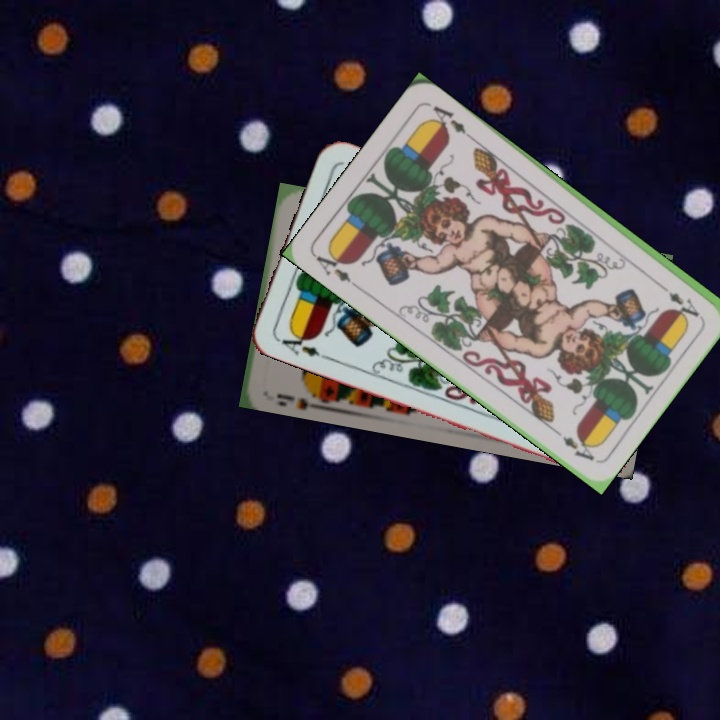EA: (312, 244, 362, 291), (274, 326, 331, 363), (653, 279, 702, 320)
S9: (272, 383, 325, 407)
